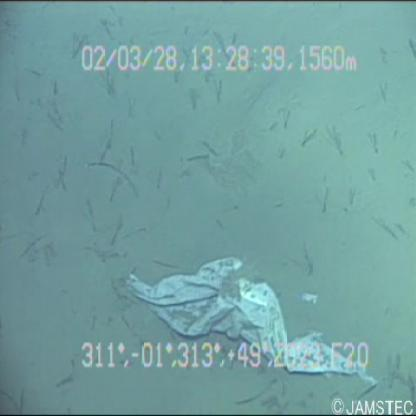Rác: (120, 230, 382, 382)
